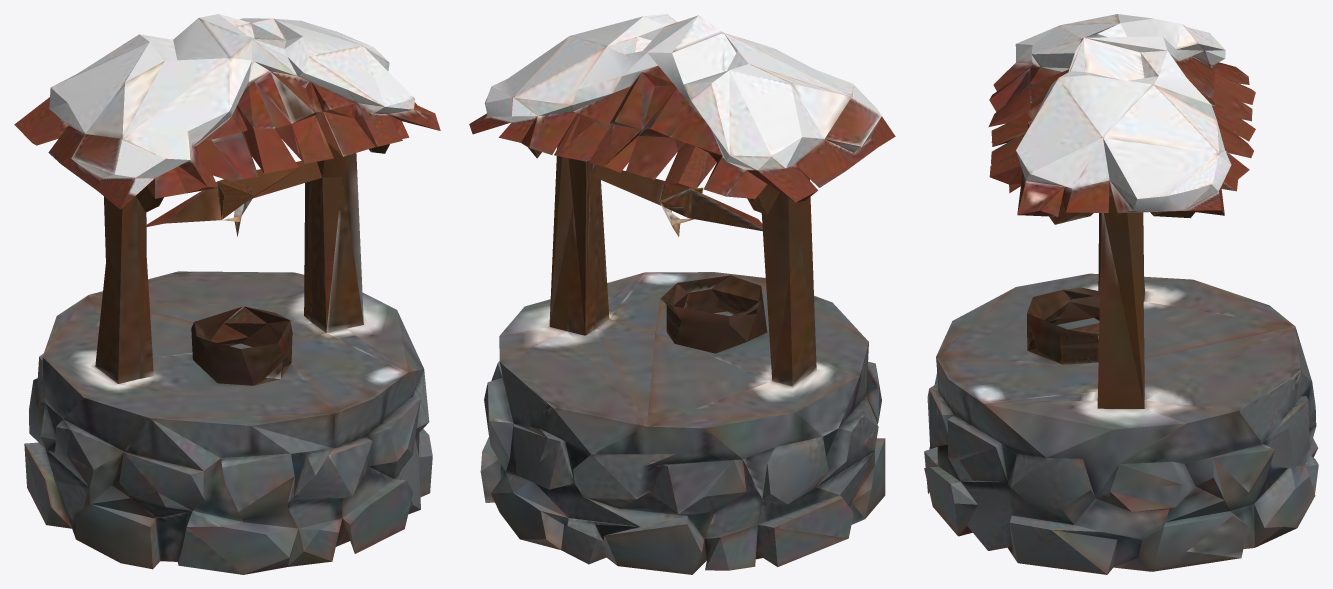
Rendered from well.glb.
3 views of the same model, side by side, from view 1: azimuth 30°, elevation 25°; view 2: azimuth 150°, elevation 25°; view 3: azimuth 270°, elevation 25° (orthographic).
Size of the model in its own units: 1.48 by 1.9 by 1.49.
Materials: 1 (1 with a texture image).
